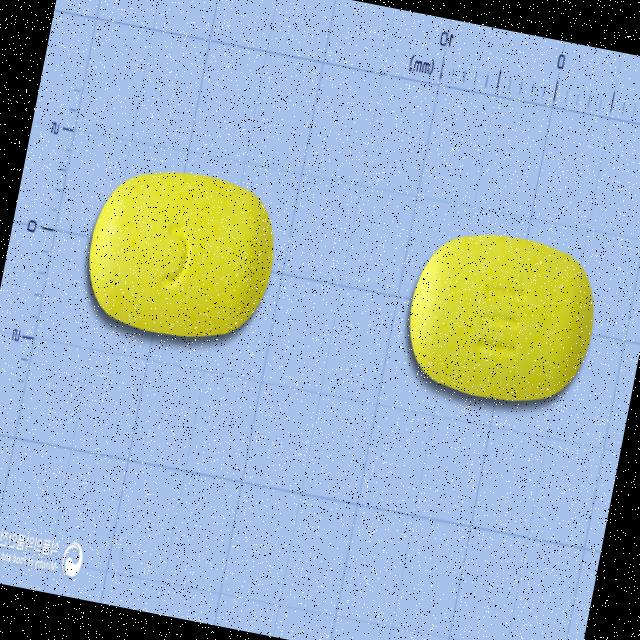Clararoxin: (391, 212, 610, 422), (69, 153, 289, 358)
